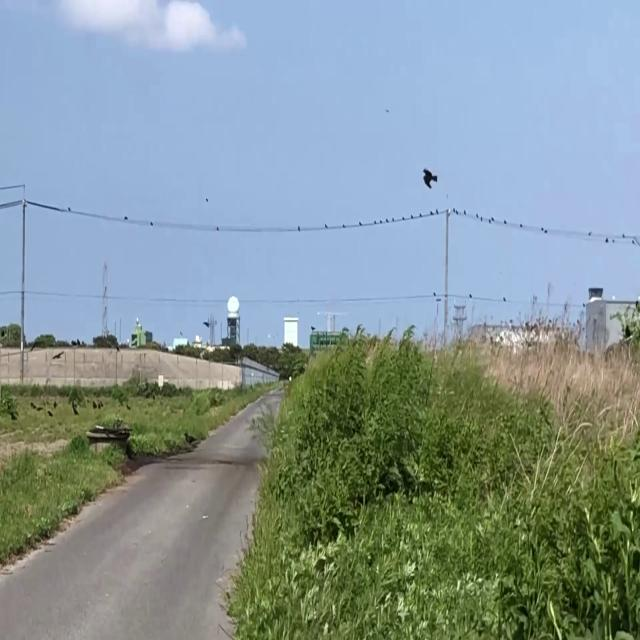bird: (422, 160, 437, 192), (11, 406, 15, 423), (94, 398, 97, 412)
